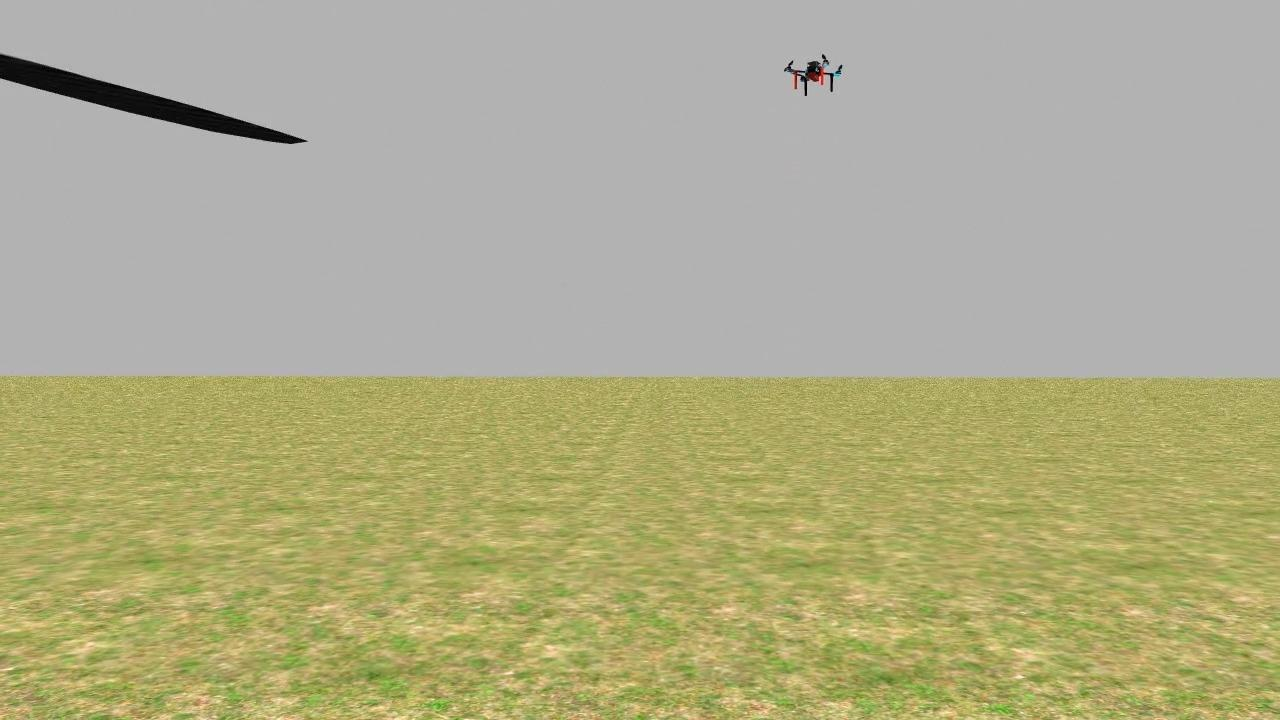UAV: (778, 46, 854, 105)
